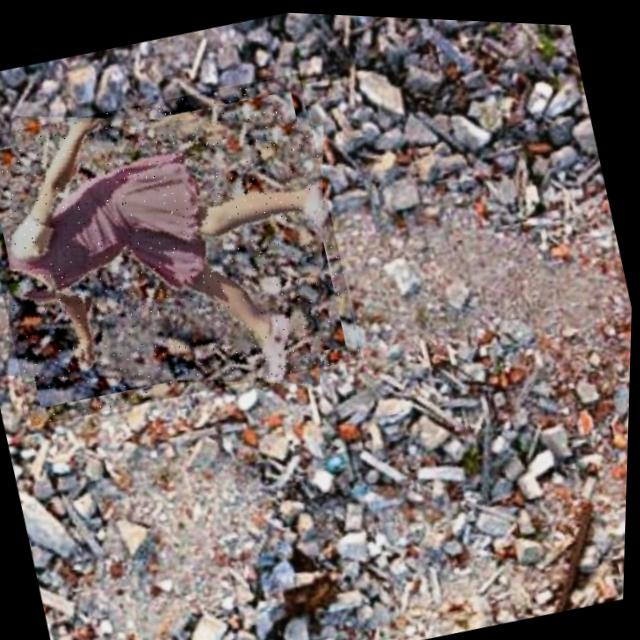Person in Rubble: (0, 58, 371, 436)
